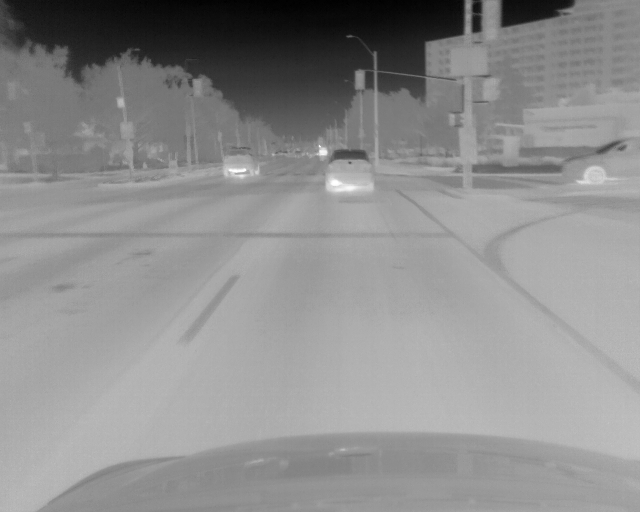car: (562, 138, 640, 185), (324, 148, 375, 196), (221, 145, 261, 177)
